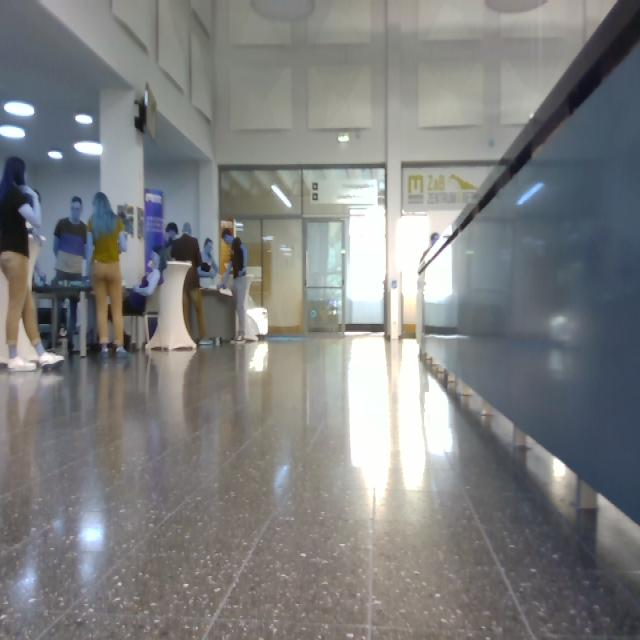door: (235, 221, 261, 306)
light bulb: (518, 182, 542, 206), (271, 184, 292, 208), (81, 524, 104, 544), (5, 102, 34, 117), (1, 125, 25, 137), (554, 457, 566, 477), (75, 114, 93, 125), (49, 150, 62, 160)
person: (1, 157, 64, 372), (88, 193, 129, 352), (171, 233, 209, 344), (221, 230, 255, 341), (52, 197, 88, 288)
tiled floor: (1, 338, 640, 640)
